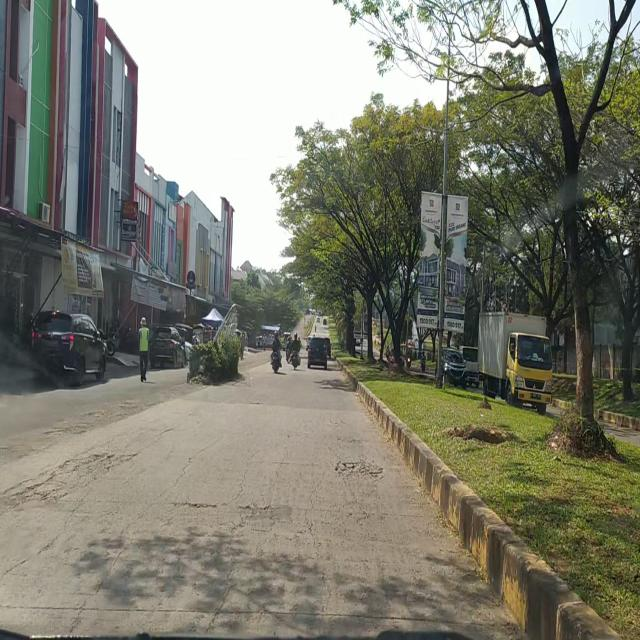Drain Hole: (1, 446, 139, 513), (333, 455, 385, 481)
